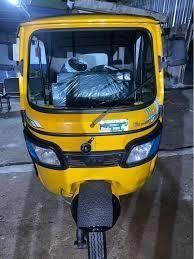keke: (15, 8, 168, 259)
